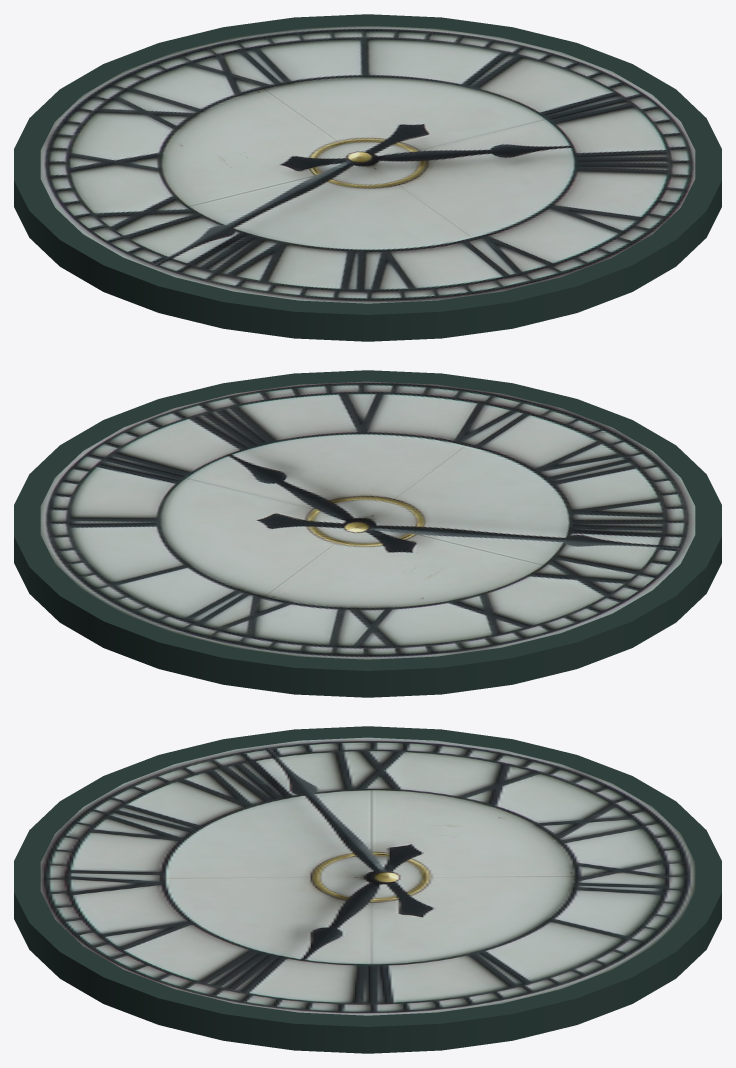
File: clock6.FBX
3 views of the same model, one above another, from view 1: azimuth 30°, elevation 25°; view 2: azimuth 150°, elevation 25°; view 3: azimuth 270°, elevation 25° (orthographic).
Parts seen in each view (by area): view 1: clock6; view 2: clock6; view 3: clock6.
Boxes of the visible parts, x1=… form: clock6: x1=14, y1=14, x2=721, y2=341; clock6: x1=14, y1=370, x2=721, y2=697; clock6: x1=14, y1=726, x2=721, y2=1053.
Bounding box in the file's own units: 3.5 × 0.145 × 3.48.
